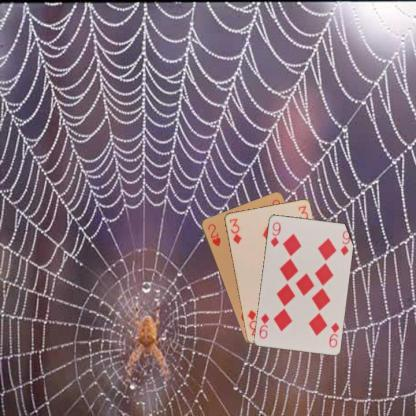2h: (205, 221, 222, 248)
3d: (227, 215, 242, 245)
9d: (267, 219, 282, 248), (326, 320, 340, 349)
